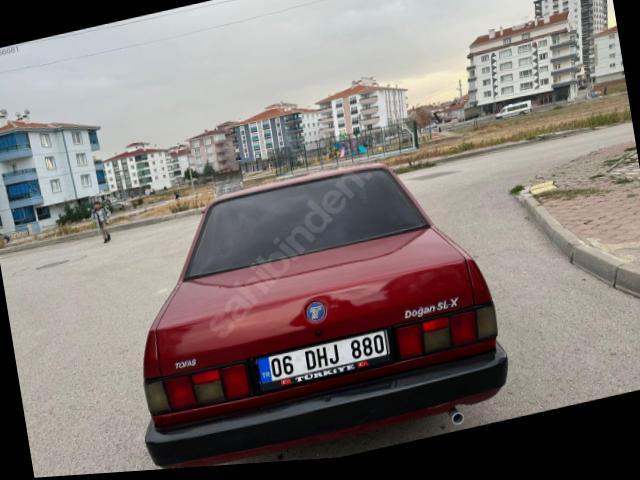plaka: (256, 330, 389, 391)
